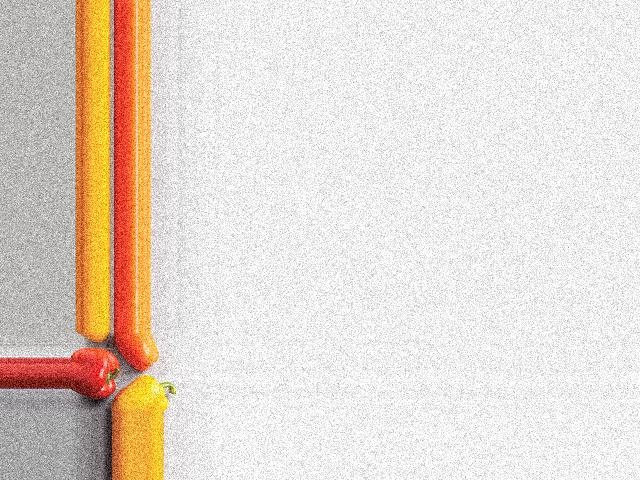bell_pepper: (71, 348, 118, 403)
